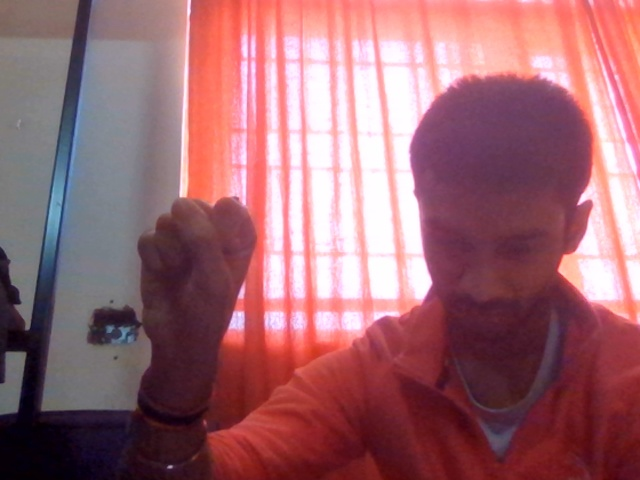S: (112, 161, 314, 438)
